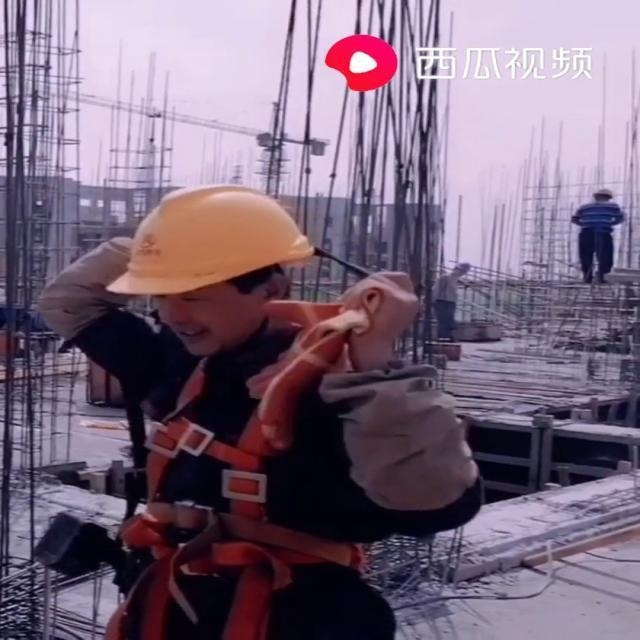Arnes_seguridad: (114, 306, 367, 597)
